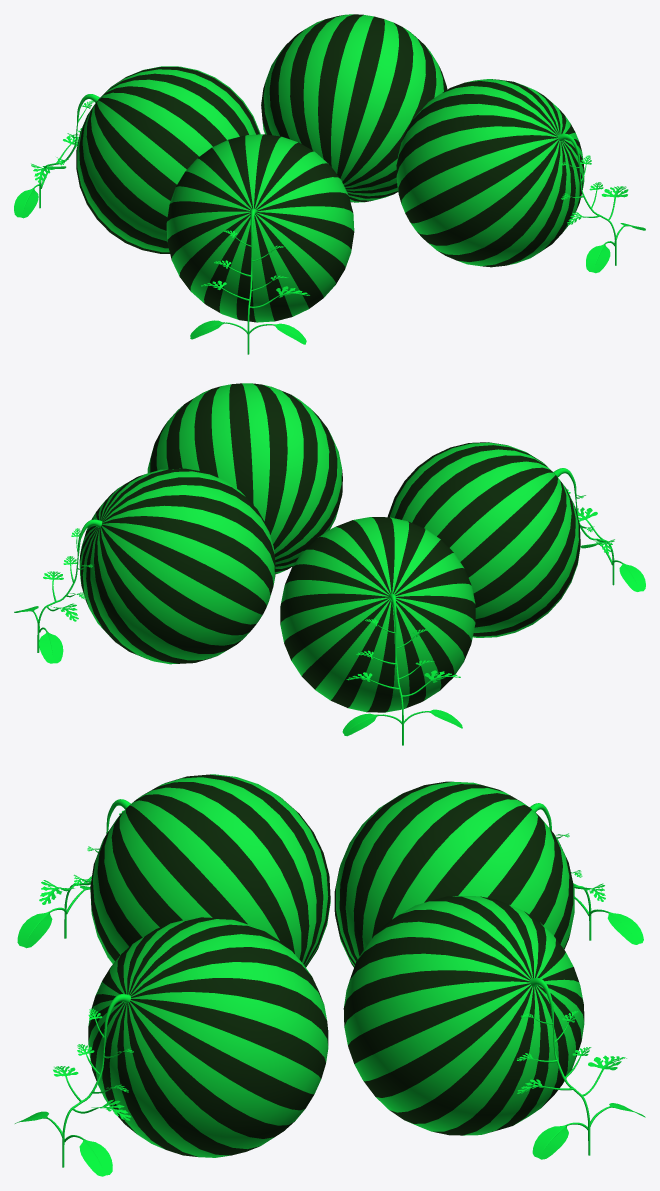
File: Watermelon_lvl5.fbx
3 renders of one model, top to bottom at view 1: azimuth 30°, elevation 25°; view 2: azimuth 150°, elevation 25°; view 3: azimuth 270°, elevation 25°, orthographic. The views are drawn at different scales.
Visible parts, largest first — view 1: Watermelon_lvl5_LOD0; view 2: Watermelon_lvl5_LOD0; view 3: Watermelon_lvl5_LOD0.
Boxes of the visible parts, x1,y1,x2,y2 form: Watermelon_lvl5_LOD0: (14,14,645,354); Watermelon_lvl5_LOD0: (14,383,645,745); Watermelon_lvl5_LOD0: (15,774,645,1176).
Size of what is drawn, in the model's own units: 96.96 by 103 by 37.65.
